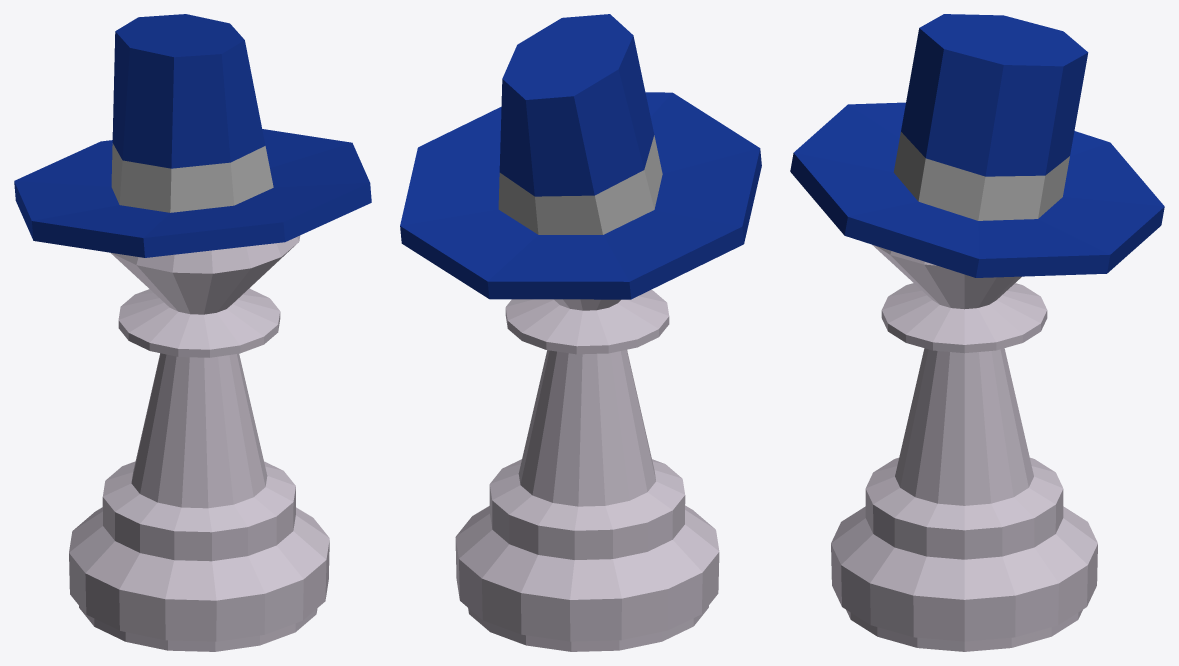
Rendered from pion2.obj.
The picture shows the model from 3 angles, left to right: view 1: azimuth 30°, elevation 25°; view 2: azimuth 150°, elevation 25°; view 3: azimuth 270°, elevation 25°; orthographic projection.
Visible parts, largest first — view 1: Cylinder; view 2: Cylinder; view 3: Cylinder.
Part boxes in pixels (x1,y1,x2,y2): Cylinder: [14, 14, 371, 651]; Cylinder: [400, 14, 761, 651]; Cylinder: [790, 14, 1164, 651].
Size of the model in its own units: 1.53 by 2.56 by 1.52.
